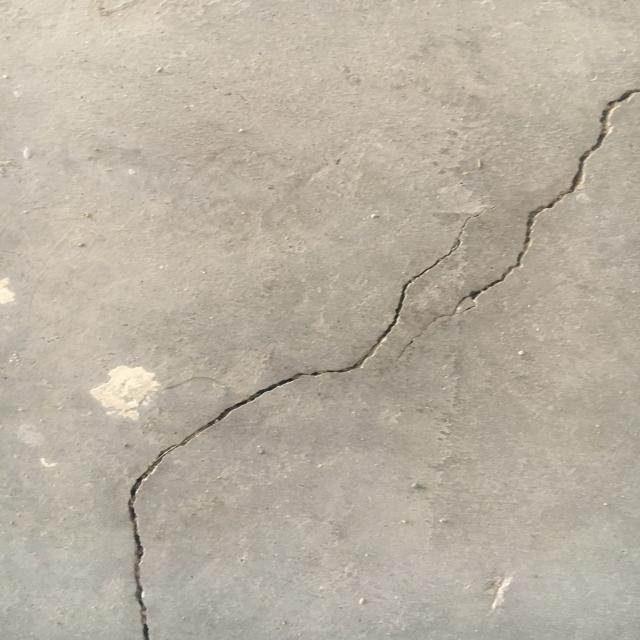Rachadura: (122, 205, 489, 640), (400, 87, 640, 359)
